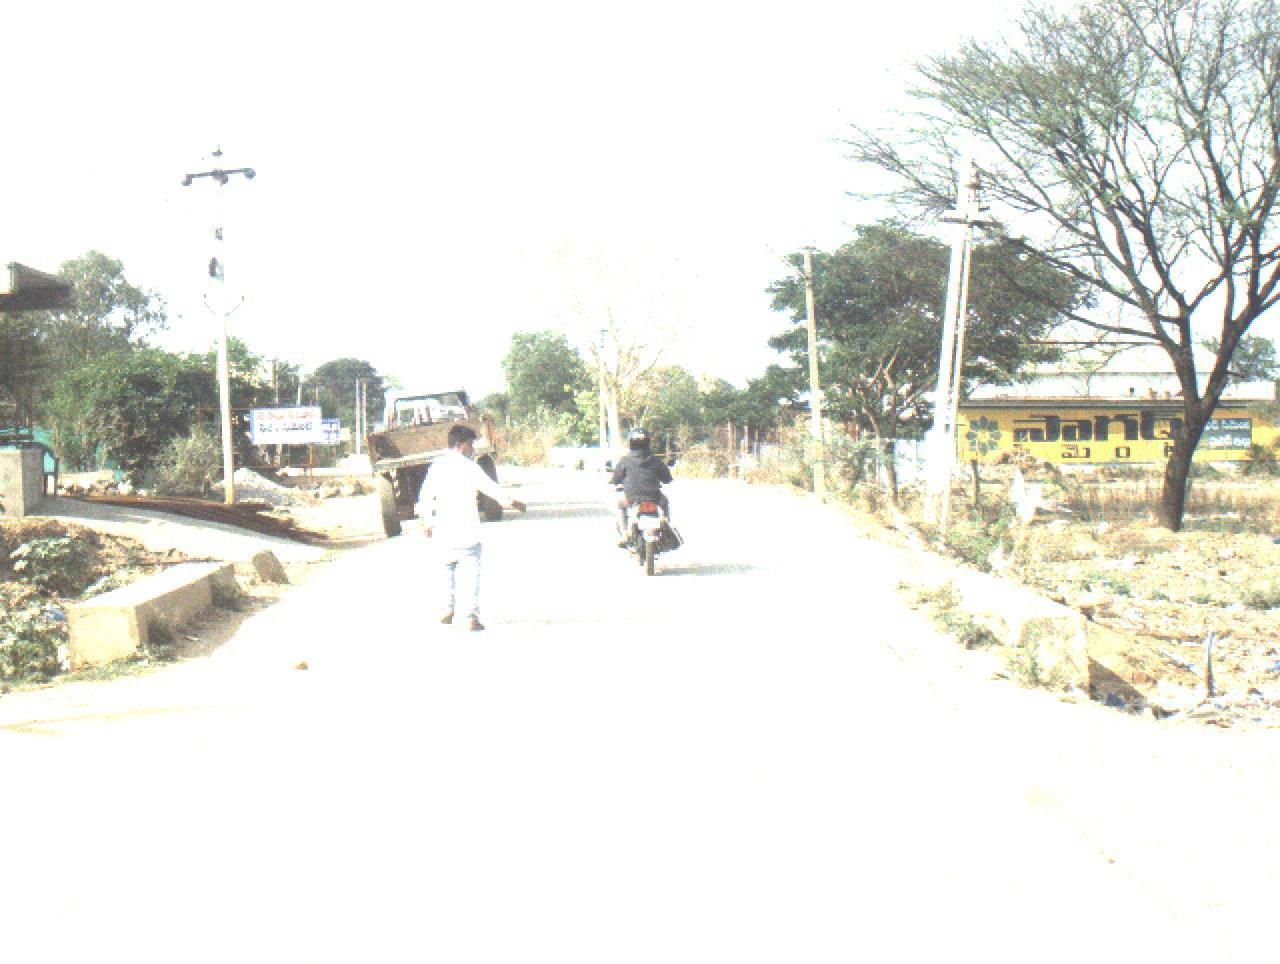off: (90, 1, 1280, 964)
